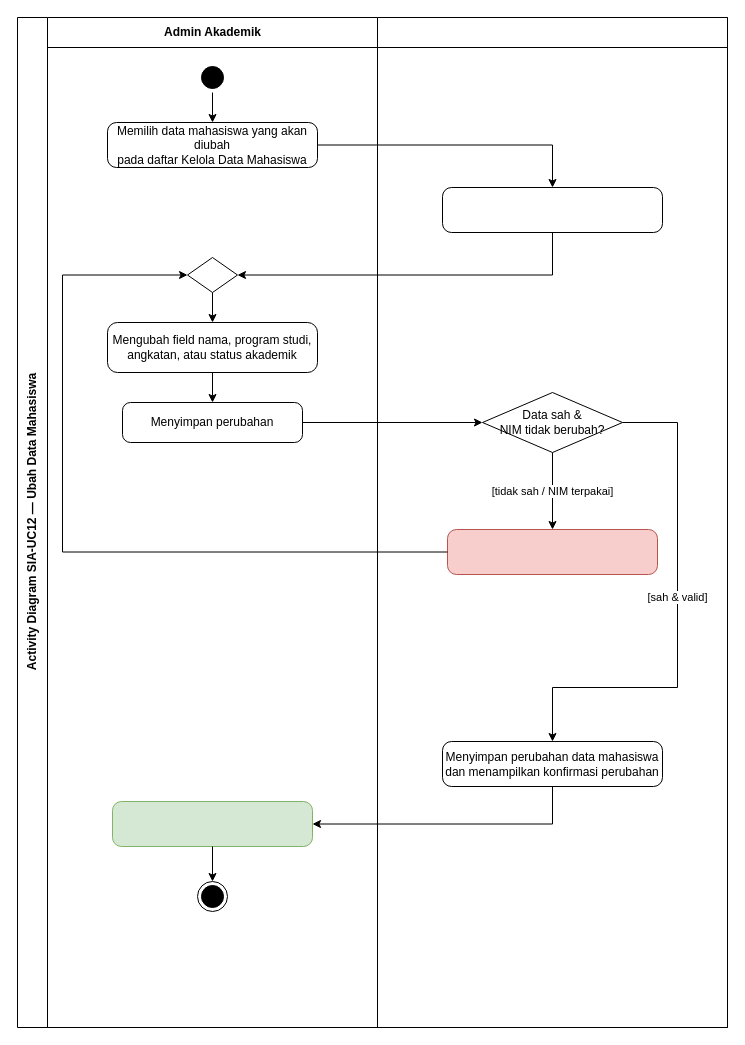
Some shapes in this 745 by 1045 pixel diagram are drawn without their labels. The shapes that lost their labels are listed below. From the top down, each one's box as (x1, y1, x2, y2) in pixels, then its label:
(442, 186, 662, 232): Menampilkan formulir ubah data dengan isi data mahasiswa terpilih
(376, 16, 728, 1028): Sistem
(446, 528, 658, 574): Menolak penyimpanan & menampilkan pesan kesalahan data
(112, 800, 312, 846): Menerima konfirmasi perubahan data mahasiswa
